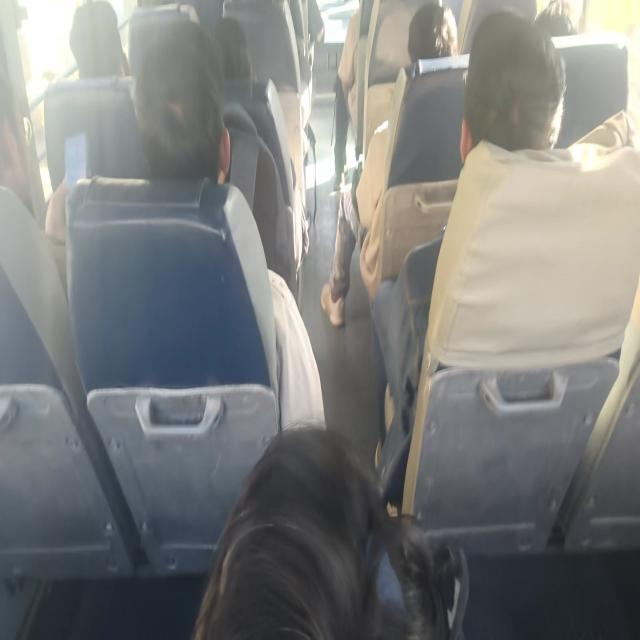person: (213, 400, 421, 640), (466, 28, 574, 171), (134, 36, 218, 198), (0, 62, 36, 216), (195, 9, 266, 75), (66, 2, 122, 65), (413, 11, 462, 78), (539, 0, 573, 39)
